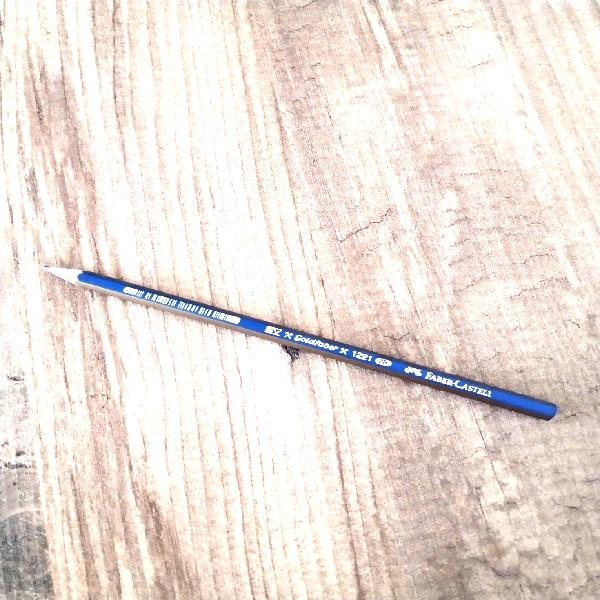pencil: (38, 249, 566, 433)
